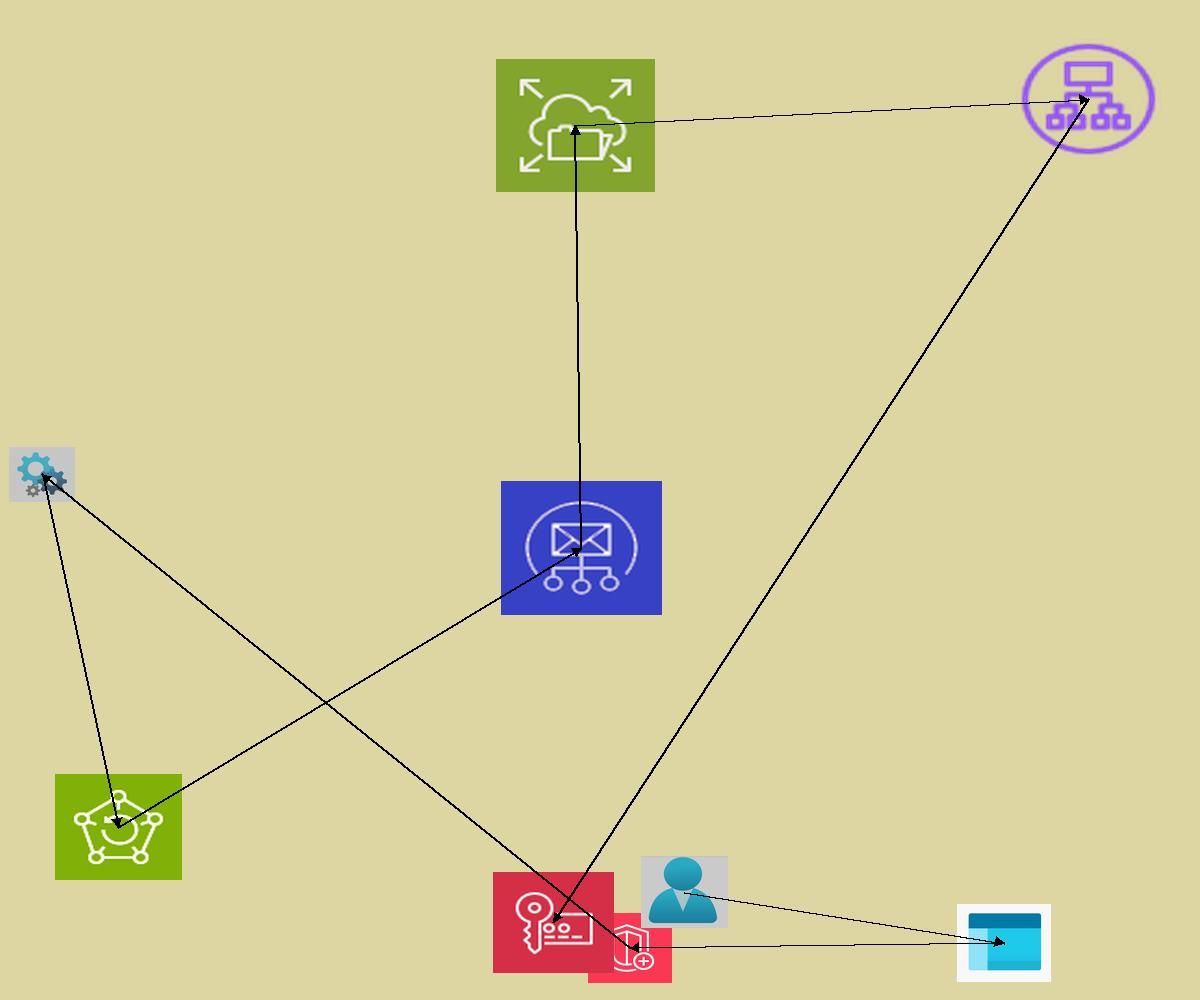AWS-Backup: (55, 774, 182, 880)
AWS-EFS: (496, 59, 655, 192)
AWS-Key-Management-Service: (493, 872, 614, 973)
AWS-Res_Elastic-Load-Balancing_Application-Load-Balancer: (1016, 39, 1161, 159)
AWS-Shield: (588, 913, 672, 983)
AWS-Simple-Email-Service: (501, 481, 662, 615)
Azure_api: (9, 447, 75, 502)
Azure_management-portal: (957, 904, 1051, 982)
Azure_users: (641, 856, 728, 928)
